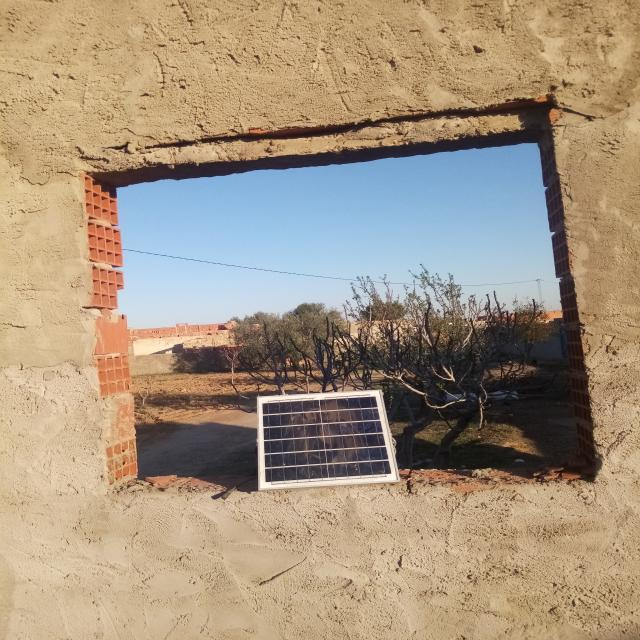Normal Solar Panel: (257, 390, 399, 489)
